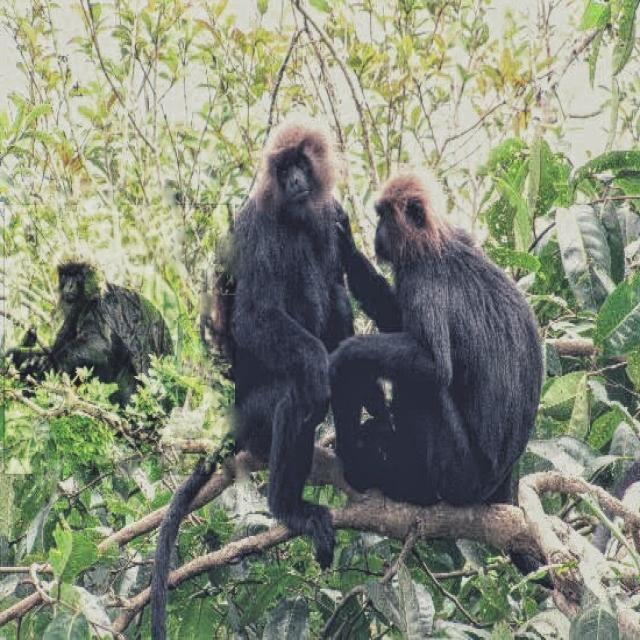not_pig: (148, 118, 399, 639), (327, 168, 545, 506), (4, 256, 174, 410)
